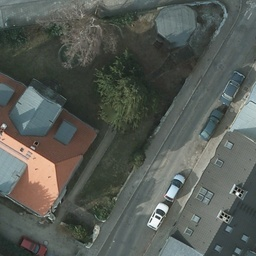car: (219, 69, 243, 107), (198, 108, 224, 143), (163, 171, 185, 201), (146, 202, 168, 230)
